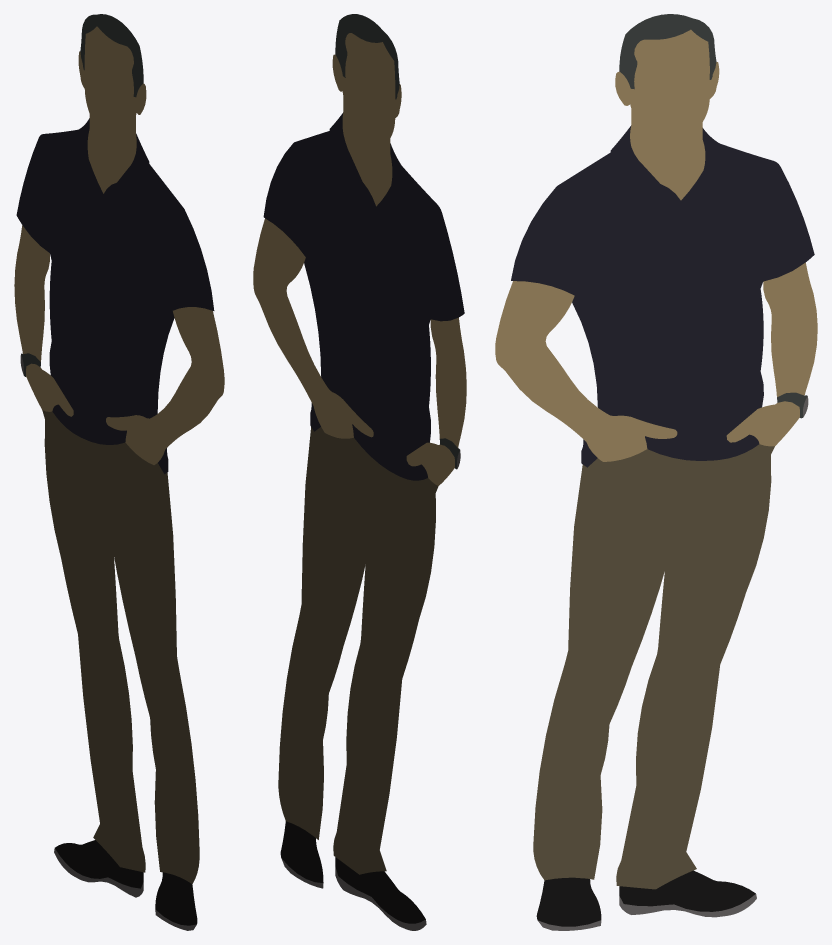
Rendered from heightref.dae.
3 renders of one model, left to right at view 1: azimuth 30°, elevation 25°; view 2: azimuth 210°, elevation 25°; view 3: azimuth 270°, elevation 25°, orthographic. The views are drawn at different scales.
Parts seen in each view (by area): view 1: Chris (×11); view 2: Chris (×11); view 3: Chris (×11).
Boxes of the visible parts, x1,y1,x2,y2 form: Chris (×11): [14, 14, 224, 925]; Chris (×11): [253, 14, 466, 930]; Chris (×11): [495, 14, 817, 926].
Size of the model in its own units: 4.45 by 22.36 by 69.5.
